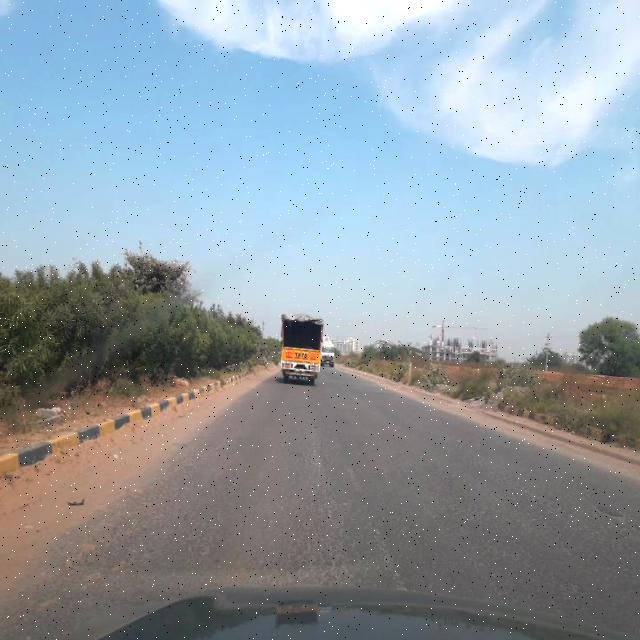D20: (270, 427, 361, 581)
